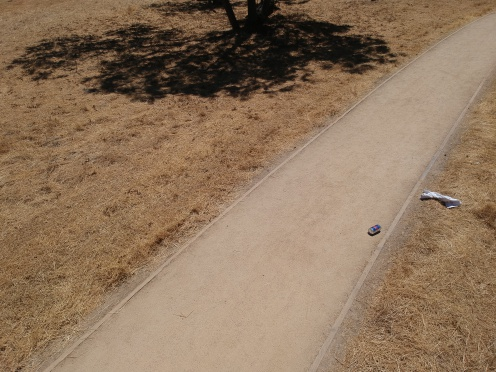can: (363, 218, 386, 237)
